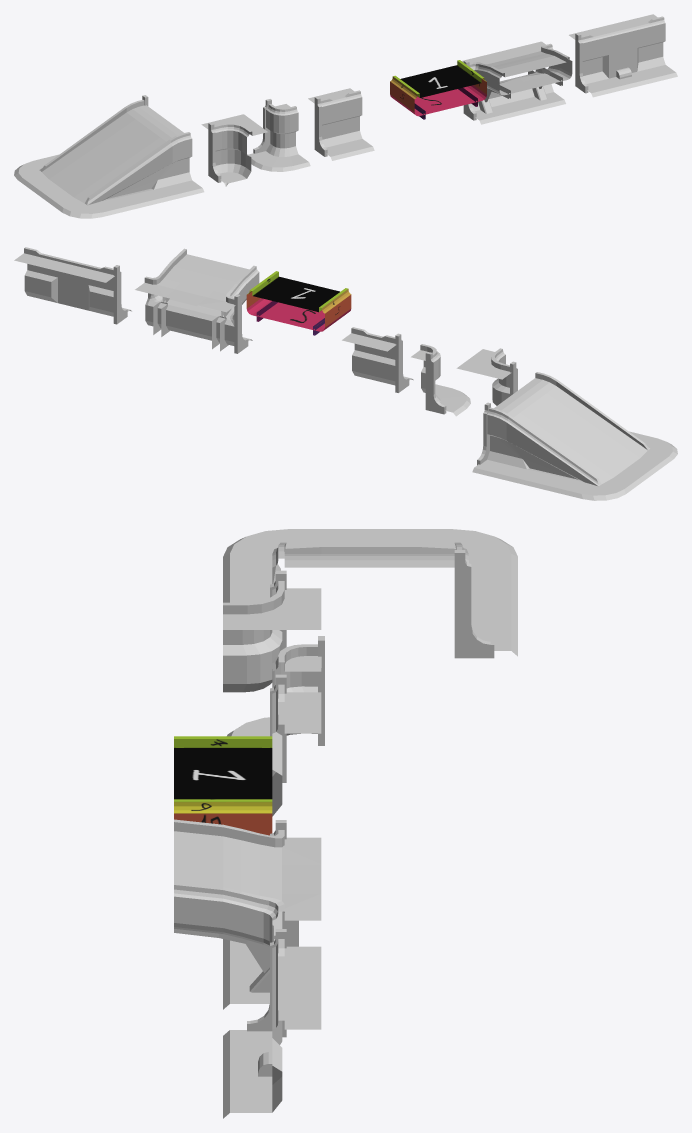
File: Environment_V01.fbx
The picture shows the model from 3 angles, top to bottom: view 1: azimuth 30°, elevation 25°; view 2: azimuth 150°, elevation 25°; view 3: azimuth 270°, elevation 25°; orthographic projection. The views are drawn at different scales.
Parts seen in each view (by area): view 1: Ramp, Wall_Large, Bridge_Wall, Bridge_Piece, Wall, Corner_IN, Corner; view 2: Ramp, Bridge_Wall, Wall_Large, Bridge_Piece, Wall, Corner, Corner_IN; view 3: Bridge_Wall, Ramp, Wall_Large, Bridge_Piece, Corner_IN, Wall, Corner.
Part boxes in pixels (x1,y1,x2,y2): Ramp: (14, 95, 204, 218); Wall_Large: (569, 14, 677, 97); Bridge_Wall: (457, 41, 572, 124); Bridge_Piece: (390, 60, 486, 119); Wall: (308, 88, 374, 160); Corner_IN: (201, 114, 267, 186); Corner: (248, 99, 310, 171); Ramp: (472, 372, 677, 500); Bridge_Wall: (135, 248, 259, 353); Wall_Large: (14, 247, 131, 324); Bridge_Piece: (246, 271, 351, 335); Wall: (342, 327, 413, 392); Corner: (411, 344, 470, 416); Corner_IN: (456, 348, 517, 405); Bridge_Wall: (174, 819, 321, 1009); Ramp: (223, 529, 517, 658); Wall_Large: (223, 929, 321, 1118); Bridge_Piece: (174, 736, 272, 835); Corner_IN: (223, 570, 321, 692); Wall: (270, 674, 321, 816); Corner: (227, 636, 324, 745).
Size of the model in its own units: 2825 by 261 by 700.
